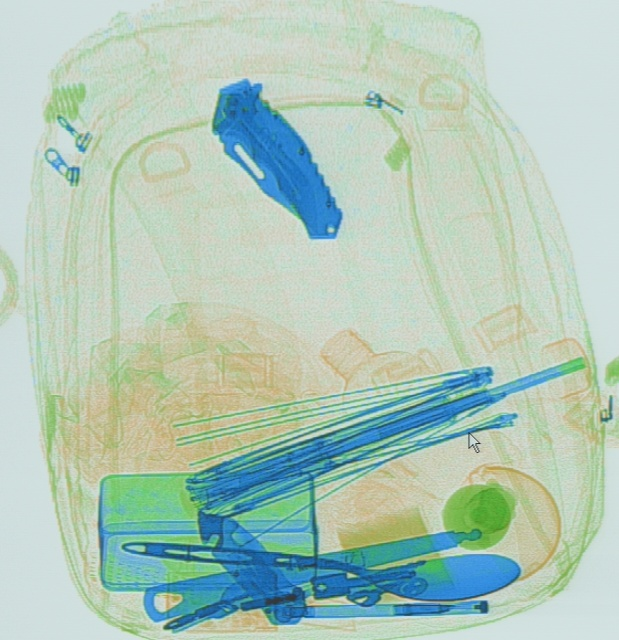knife: (207, 75, 343, 242), (196, 505, 312, 627)
